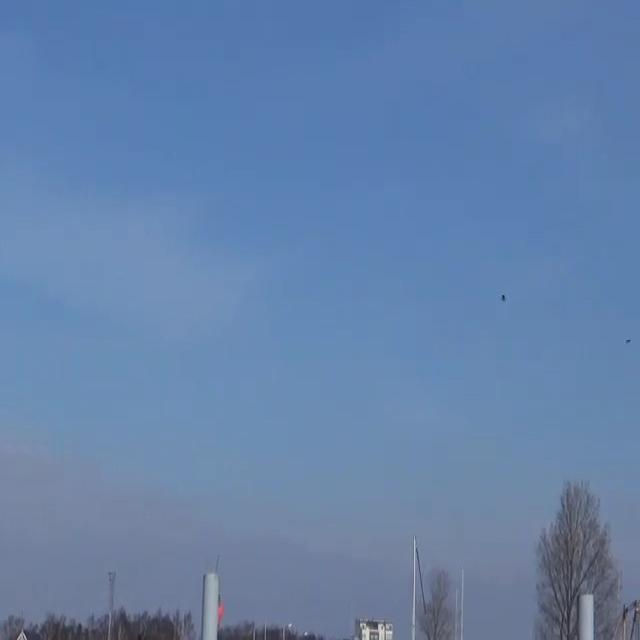bird: (497, 290, 509, 304), (623, 335, 632, 347)
